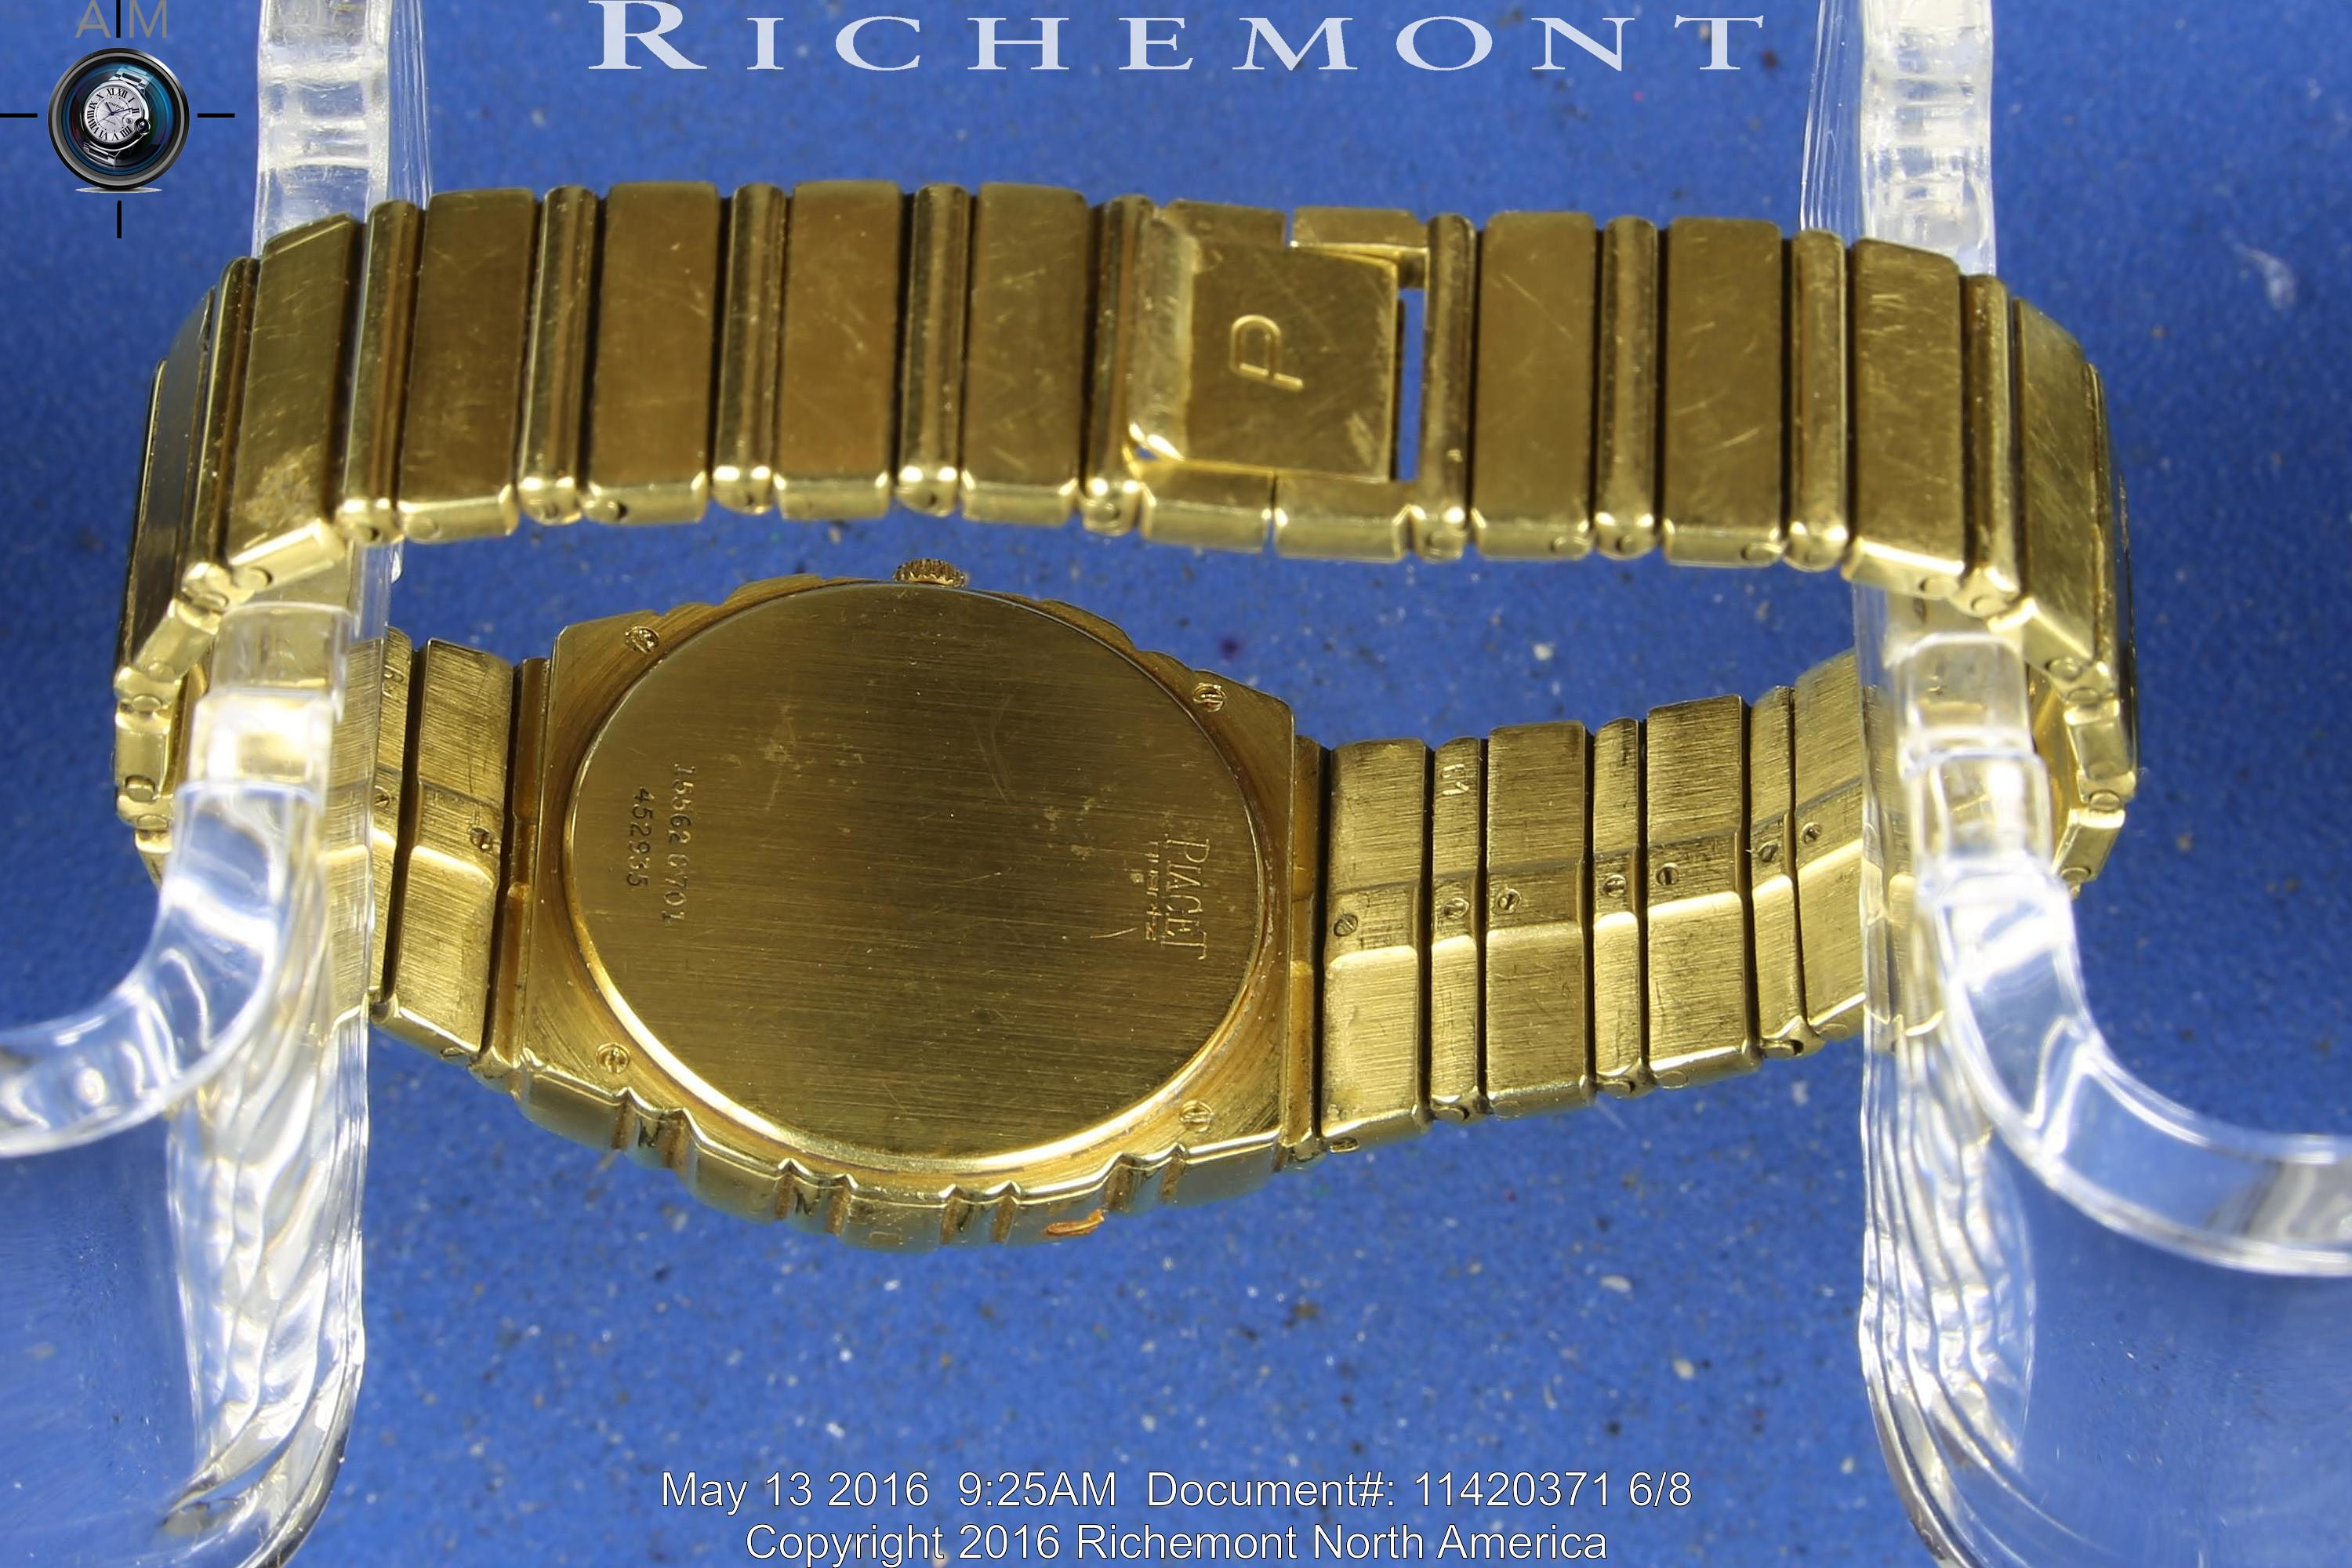Watch BackCase: (551, 543, 1314, 1239)
